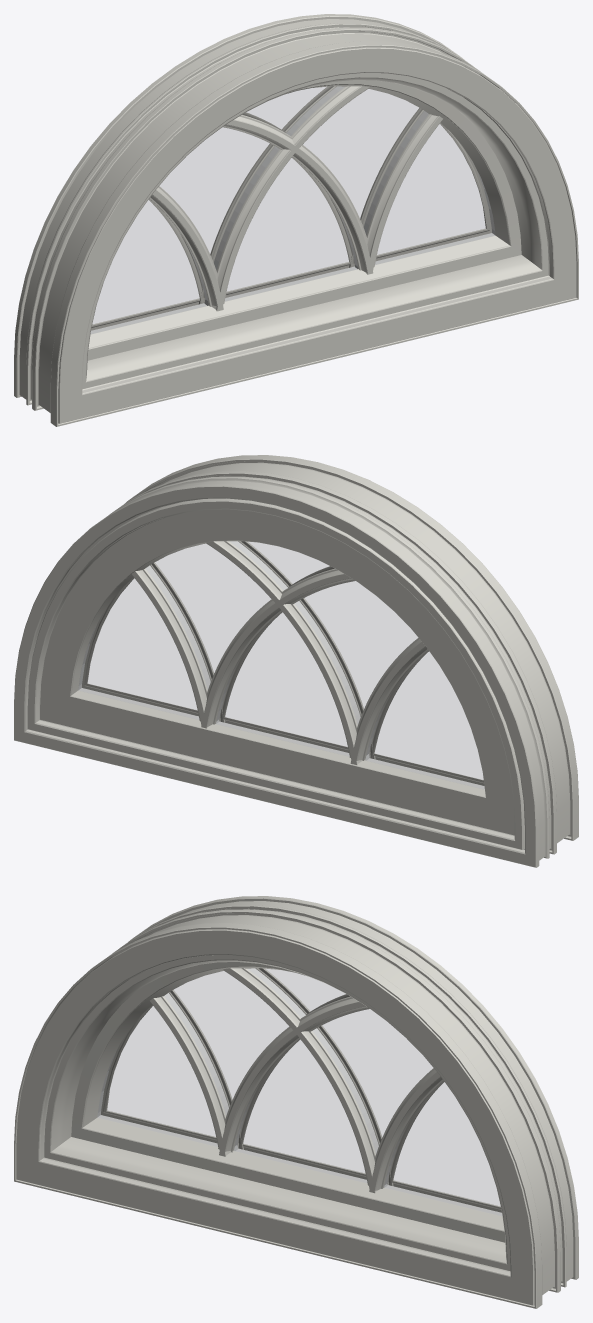
Rendered from 10_W_CircleTop_v02.glb.
3 renders of one model, top to bottom at view 1: azimuth 30°, elevation 25°; view 2: azimuth 150°, elevation 25°; view 3: azimuth 330°, elevation 25°, orthographic.
Visible parts, largest first — view 1: 10_W_Interior, 10_W_Exterior, 10_W_Spacers; view 2: 10_W_Exterior, 10_W_Interior, 10_W_Spacers; view 3: 10_W_Interior, 10_W_Exterior, 10_W_Spacers.
Boxes of the visible parts, x1,y1,x2,y2 form: 10_W_Interior: [31, 27, 578, 426]; 10_W_Exterior: [14, 14, 491, 405]; 10_W_Spacers: [90, 86, 495, 334]; 10_W_Exterior: [14, 476, 549, 867]; 10_W_Interior: [82, 455, 578, 854]; 10_W_Spacers: [78, 541, 484, 789]; 10_W_Interior: [14, 909, 561, 1308]; 10_W_Exterior: [101, 896, 578, 1287]; 10_W_Spacers: [97, 968, 502, 1216].
Bounding box in the file's own units: 1.28 × 0.7261 × 0.1828.
4 materials, 4 textured.
